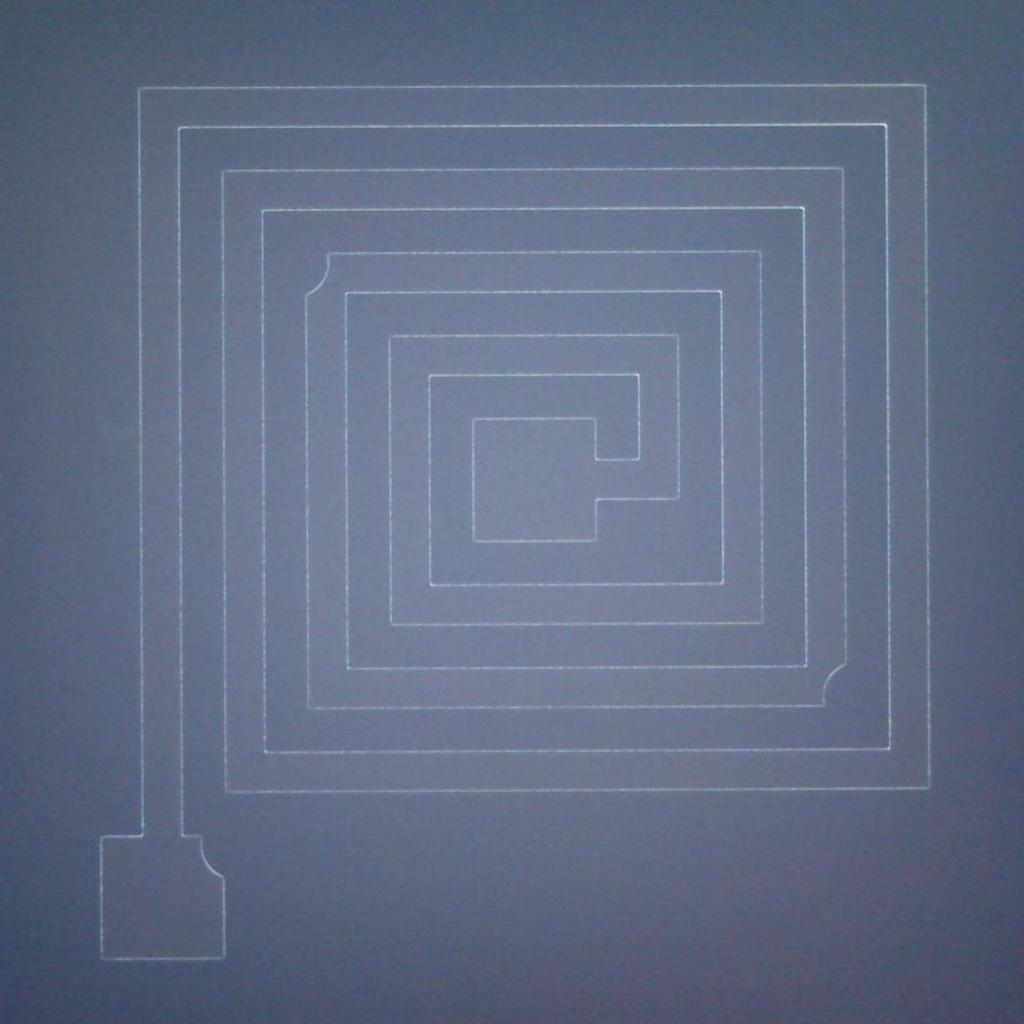curve circuit: (811, 657, 862, 721), (293, 249, 341, 307), (191, 829, 236, 887)
